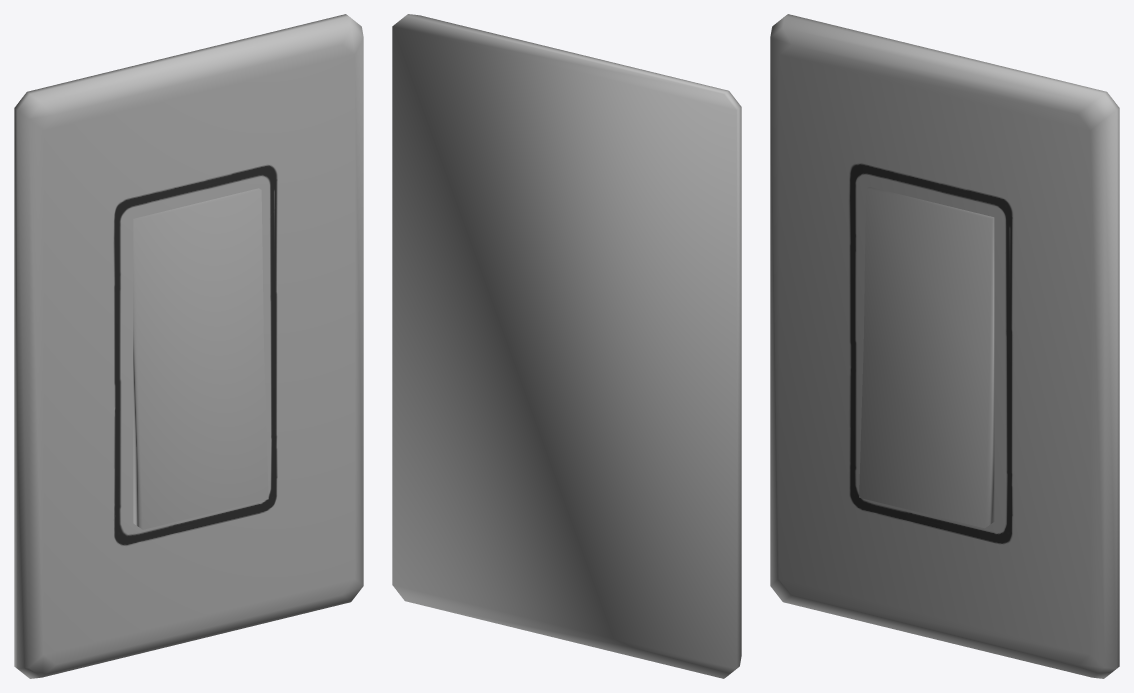
The picture shows the model from 3 angles, left to right: view 1: azimuth 30°, elevation 25°; view 2: azimuth 150°, elevation 25°; view 3: azimuth 330°, elevation 25°; orthographic projection.
Parts seen in each view (by area): view 1: LightPlate, Switch_Left; view 2: LightPlate; view 3: LightPlate, Switch_Left.
Boxes of the visible parts, box(x1,y1,x2,y2) form: LightPlate: box(14, 14, 363, 678); Switch_Left: box(133, 188, 268, 529); LightPlate: box(392, 14, 741, 678); LightPlate: box(770, 14, 1119, 678); Switch_Left: box(859, 187, 994, 528).
Size of the model in its own units: 281 by 456 by 31.81.
Materials: 1 (1 with a texture image).
